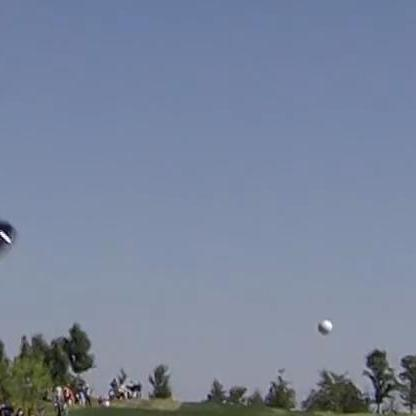golfball: (315, 316, 331, 334)
